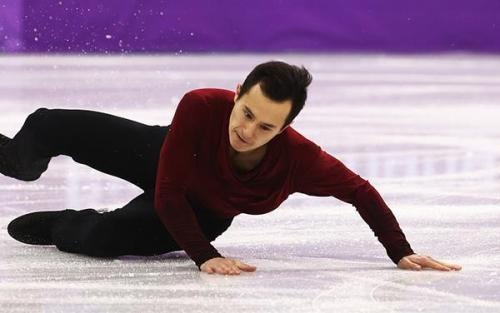falling: (0, 36, 456, 284)
